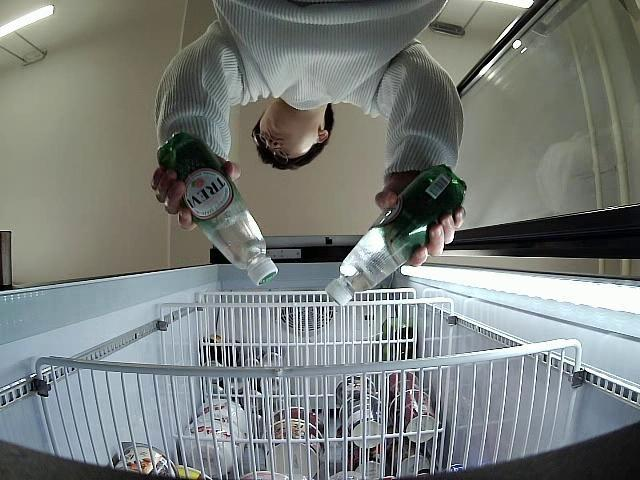18_trevi: (326, 166, 466, 304), (157, 134, 278, 286)
